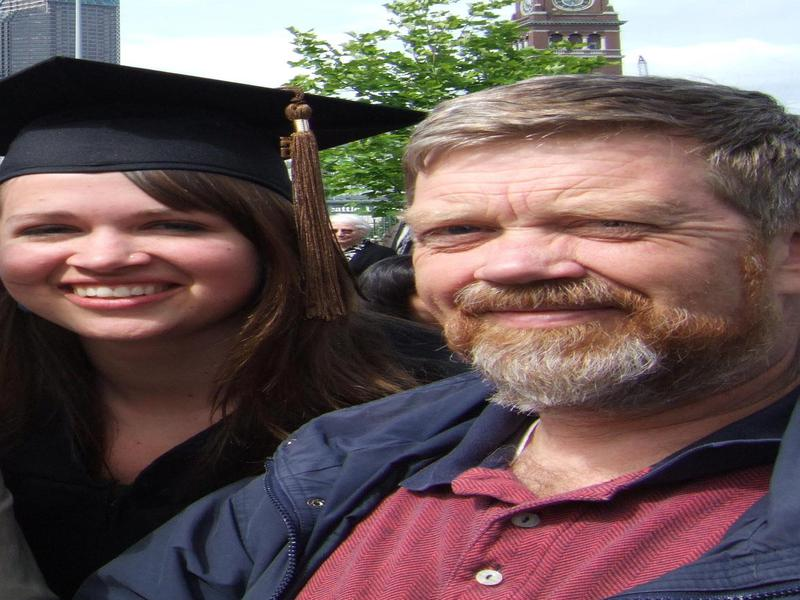person: (79, 73, 800, 600), (2, 58, 416, 600)
